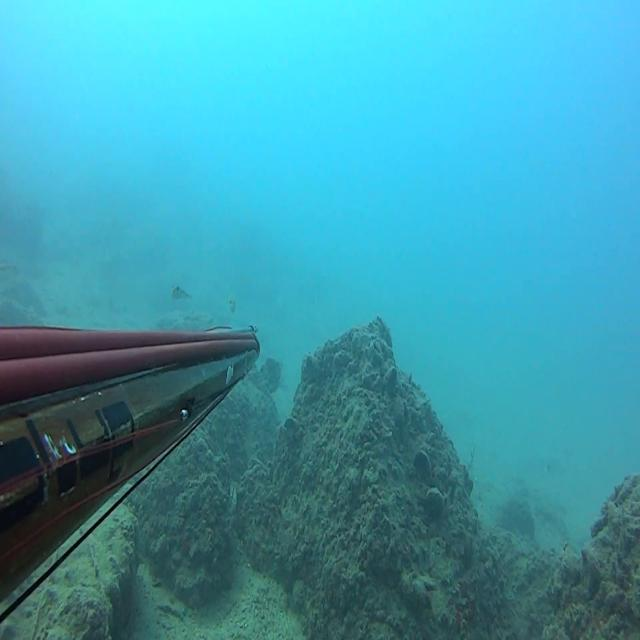Balon Baligi: (172, 286, 193, 300), (228, 299, 236, 313)
